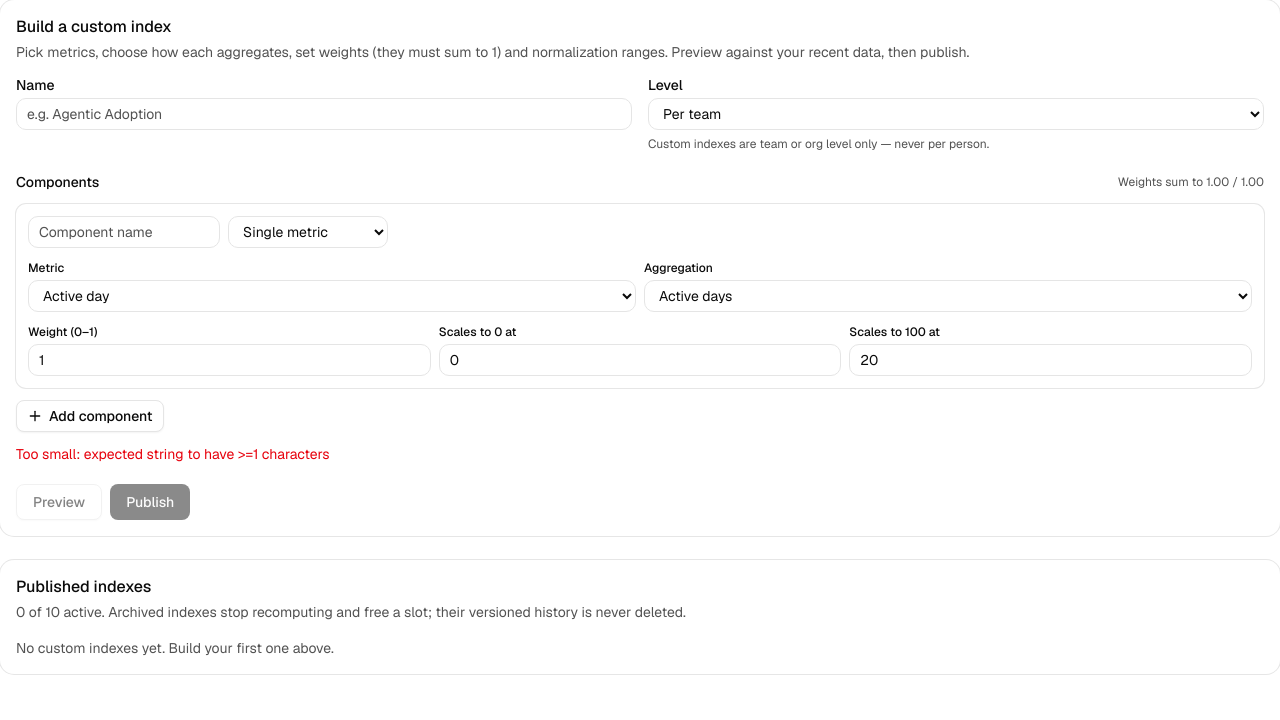
Scenario: IndexWorkbench ComponentEditor accessibility › announces async preview results in an aria-live region
This screenshot has width=1280, height=720.
# Naming the component makes the schema pass, which enables Preview.
Type "Adoption" into the field labelled "Component name" at point(124, 232), box [28,216,220,248]
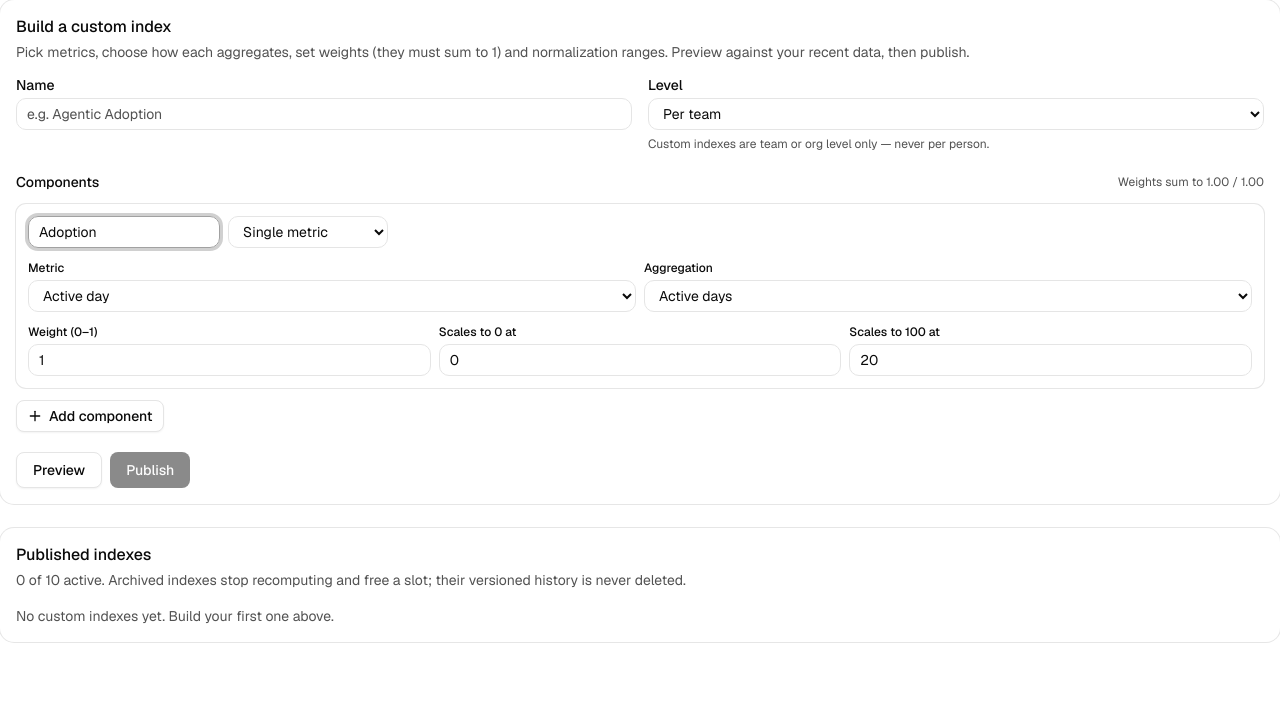
Expected: the button "Preview" is enabled
Click the button "Preview" at point(59, 470), box [16,452,102,488]
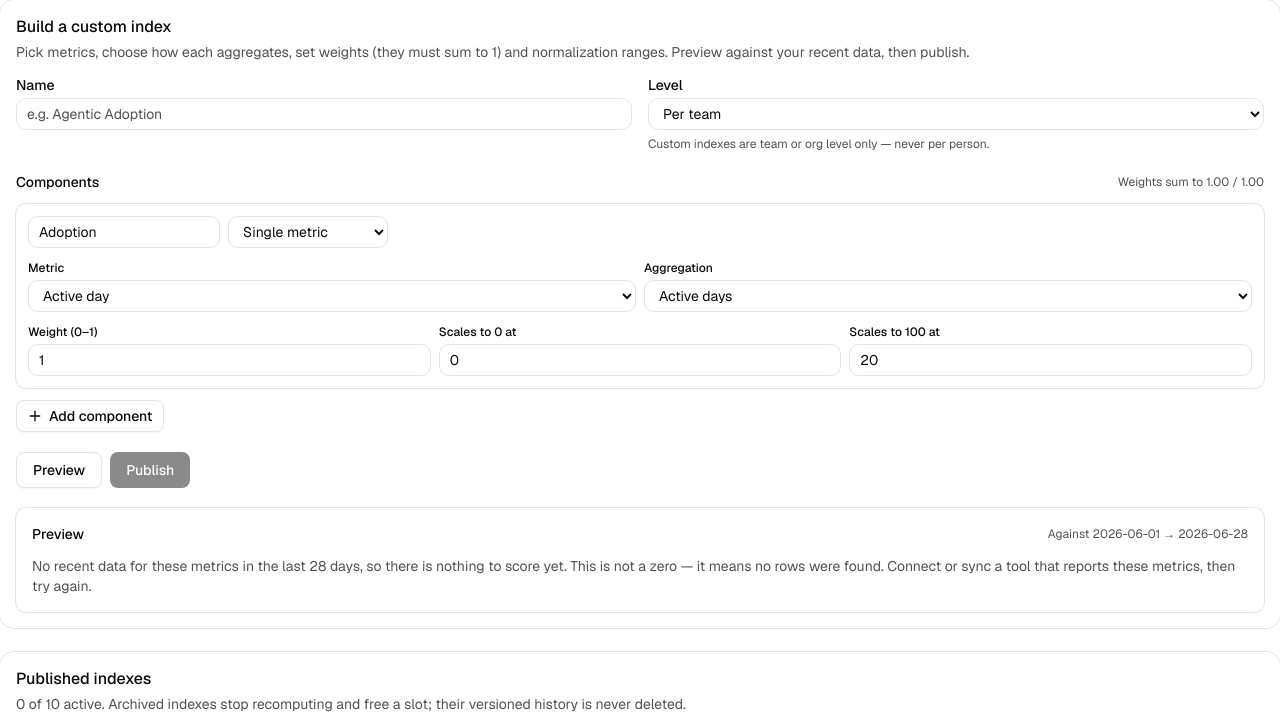
Expected: the text "No recent data for these metrics" is shown, [32,557,1235,595]
